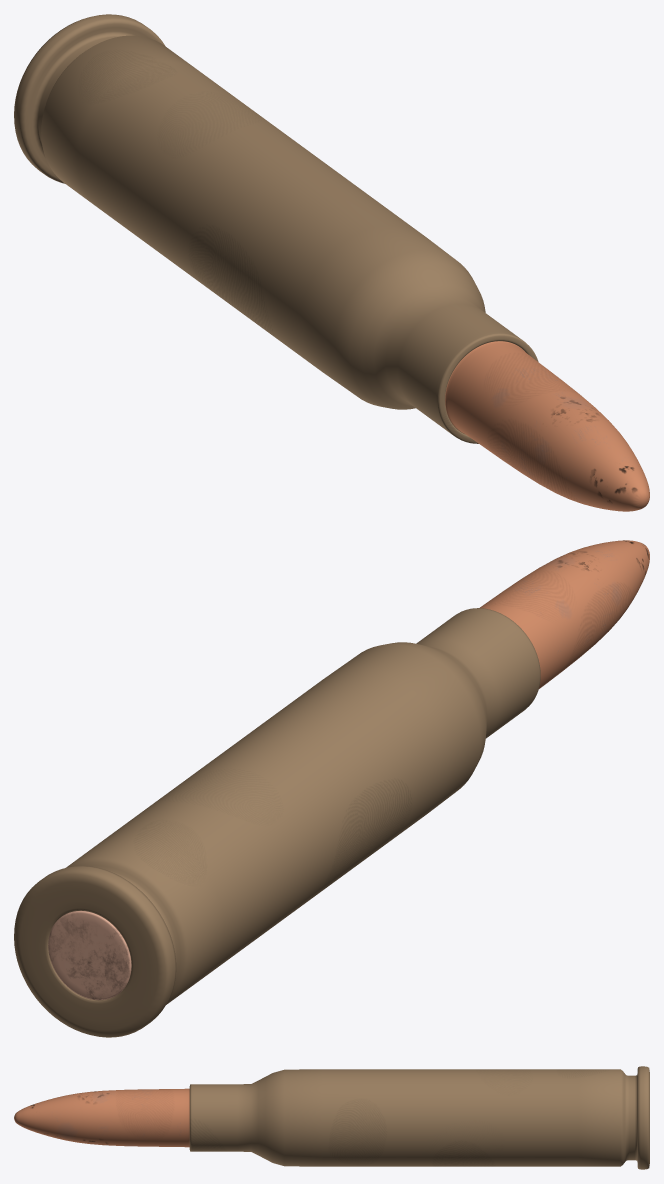
Rendered from bullet.fbx.
3 renders of one model, top to bottom at view 1: azimuth 30°, elevation 25°; view 2: azimuth 150°, elevation 25°; view 3: azimuth 270°, elevation 25°, orthographic. The views are drawn at different scales.
Parts seen in each view (by area): view 1: Pocisk 1_Main_0; view 2: Pocisk 1_Main_0; view 3: Pocisk 1_Main_0.
Boxes of the visible parts, box(x1,y1,x2,y2) form: Pocisk 1_Main_0: box(14, 14, 649, 511); Pocisk 1_Main_0: box(14, 540, 649, 1037); Pocisk 1_Main_0: box(14, 1066, 649, 1169).
Bounding box in the file's own units: 7.27 × 7.27 × 44.82.
Materials: 3 (3 with a texture image).
